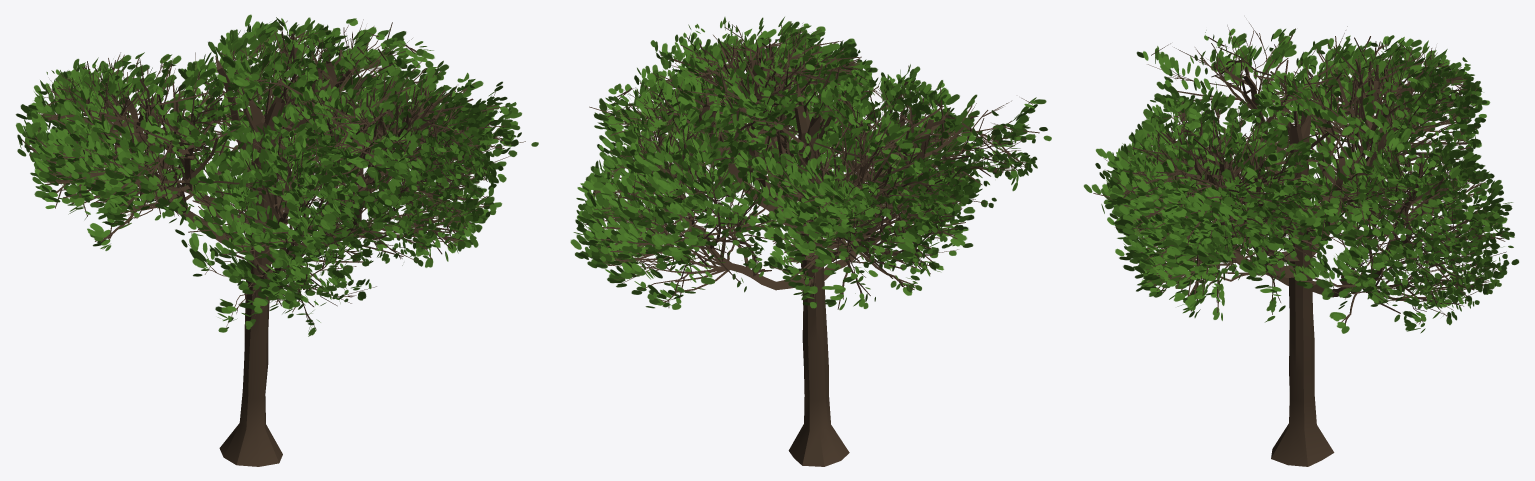
3 renders of one model, left to right at view 1: azimuth 30°, elevation 25°; view 2: azimuth 150°, elevation 25°; view 3: azimuth 270°, elevation 25°, orthographic. The views are drawn at different scales.
Visible parts, largest first — view 1: oak 01.001_trunk_Mat.001_0.152; view 2: oak 01.001_trunk_Mat.001_0.152; view 3: oak 01.001_trunk_Mat.001_0.152.
Part boxes in pixels (x1=…): oak 01.001_trunk_Mat.001_0.152: x1=15, y1=14, x2=538, y2=466; oak 01.001_trunk_Mat.001_0.152: x1=570, y1=17, x2=1051, y2=466; oak 01.001_trunk_Mat.001_0.152: x1=1083, y1=23, x2=1519, y2=466.
Size of the model in its own units: 4.06 by 3.39 by 3.73.
2 materials, 1 textured.
